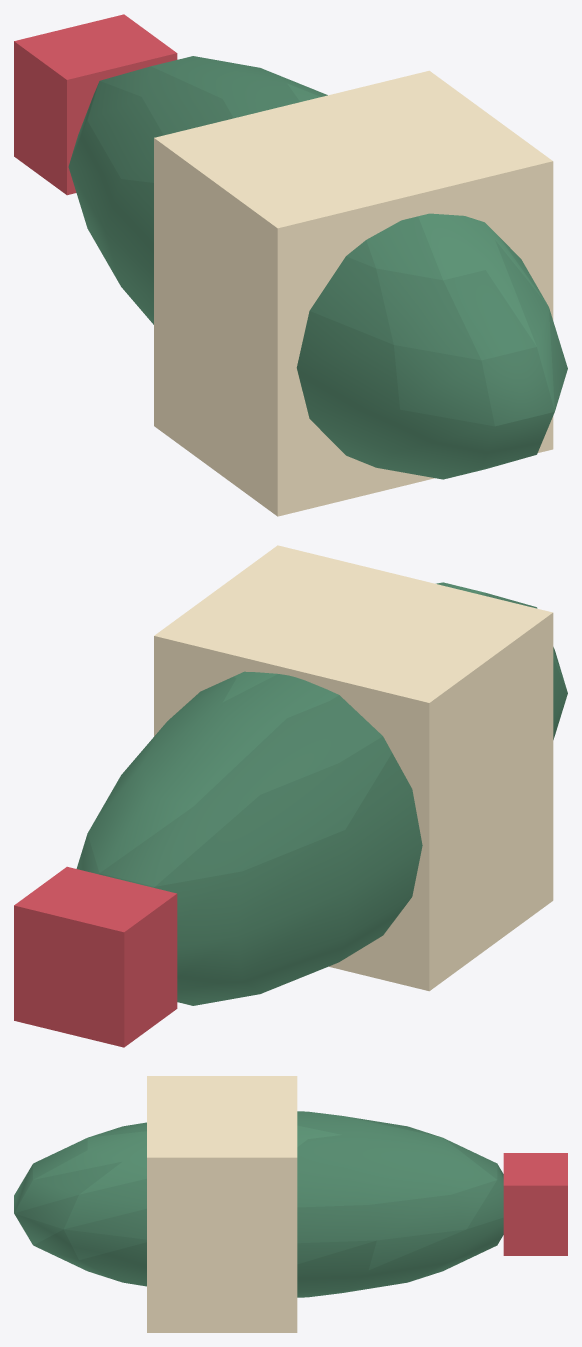
The model's file is soda.gltf.
3 views of the same model, one above another, from view 1: azimuth 30°, elevation 25°; view 2: azimuth 150°, elevation 25°; view 3: azimuth 270°, elevation 25° (orthographic). The views are drawn at different scales.
Size of the model in its own units: 0.45 by 0.45 by 1.29.
Materials: 1 (1 with a texture image).
